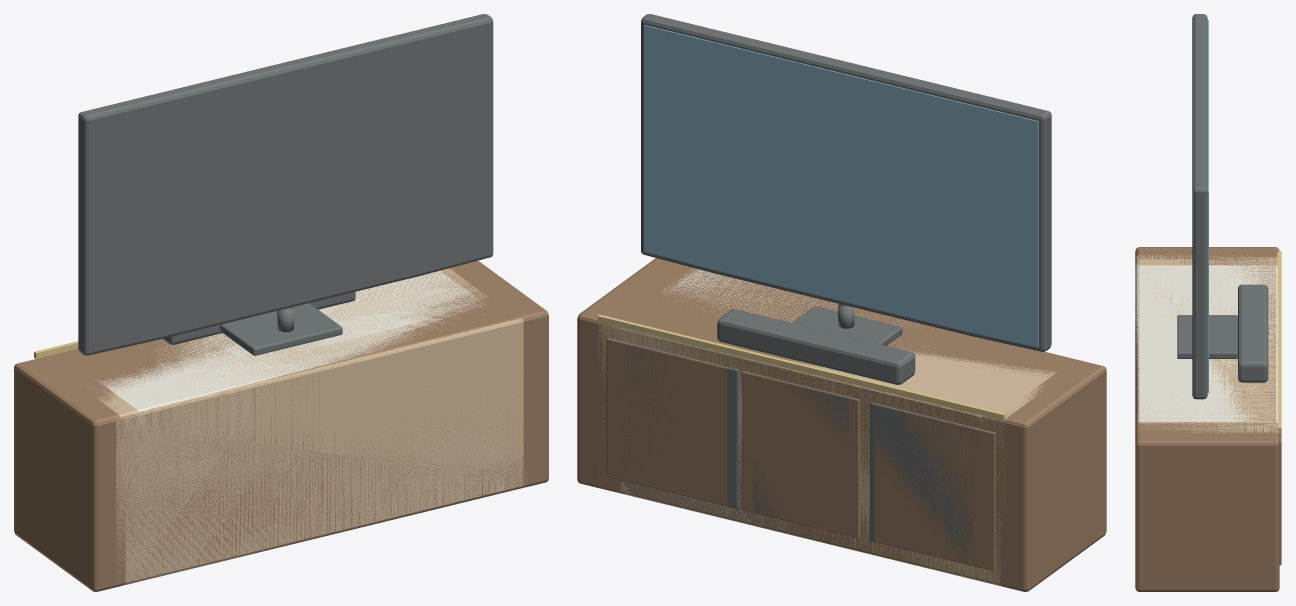
Rendered from Gear05.fbx.
3 renders of one model, left to right at view 1: azimuth 30°, elevation 25°; view 2: azimuth 150°, elevation 25°; view 3: azimuth 270°, elevation 25°, orthographic. The views are drawn at different scales.
Visible parts, largest first — view 1: Gear05_V9_Charcoal, Gear05_V10_Charcoal, Gear05_V5_Oak, Gear05_V4_Oak, Gear05_V10_Walnut, Gear05_V7_Walnut, Gear05_V2_Charcoal, Gear05_V7_Charcoal, Gear05_V2_Ivory, Gear05_V1_Charcoal, Gear05_V8_Charcoal, Gear05_V9_Walnut (+7 smaller); view 2: Gear05_V10_ScreenUI, Gear05_V10_Walnut, Gear05_V8_Walnut, Gear05_V6_ScreenUI, Gear05_V7_Walnut, Gear05_V7_ScreenUI, Gear05_V10_Charcoal, Gear05_V8_ScreenUI, Gear05_V1_ScreenUI, Gear05_V9_Walnut, Gear05_V4_ScreenUI, Gear05_V5_Charcoal (+15 smaller); view 3: Gear05_V10_Walnut, Gear05_V1_Ivory, Gear05_V10_Charcoal, Gear05_V3_Oak, Gear05_V7_Walnut, Gear05_V6_Charcoal, Gear05_V6_Oak, Gear05_V4_Oak, Gear05_V1_Charcoal, Gear05_V5_Oak, Gear05_V9_Walnut, Gear05_V10_ScreenUI (+4 smaller).
Boxes of the visible parts, x1,y1,x2,y2 form: Gear05_V9_Charcoal: (95,33,483,353); Gear05_V10_Charcoal: (78,14,493,355); Gear05_V5_Oak: (91,268,523,585); Gear05_V4_Oak: (89,268,518,584); Gear05_V10_Walnut: (14,260,548,591); Gear05_V7_Walnut: (33,268,532,587); Gear05_V2_Charcoal: (148,129,431,341); Gear05_V7_Charcoal: (110,59,468,350); Gear05_V2_Ivory: (133,270,509,554); Gear05_V1_Charcoal: (155,119,424,355); Gear05_V8_Charcoal: (103,79,476,351); Gear05_V9_Walnut: (22,263,542,586); Gear05_V10_ScreenUI: (644,25,1038,347); Gear05_V10_Walnut: (577,258,1106,591); Gear05_V8_Walnut: (588,265,1062,589); Gear05_V6_ScreenUI: (673,97,1008,340); Gear05_V7_Walnut: (593,271,1039,582); Gear05_V7_ScreenUI: (666,57,1016,342); Gear05_V10_Charcoal: (641,14,1051,384); Gear05_V8_ScreenUI: (658,50,1023,344); Gear05_V1_ScreenUI: (710,121,971,332); Gear05_V9_Walnut: (584,272,1037,590); Gear05_V4_ScreenUI: (688,98,994,337); Gear05_V5_Charcoal: (627,261,1004,565); Gear05_V10_Walnut: (1135,247,1281,591); Gear05_V1_Ivory: (1137,265,1277,422); Gear05_V10_Charcoal: (1177,14,1268,399); Gear05_V3_Oak: (1138,261,1277,426); Gear05_V7_Walnut: (1135,253,1281,436); Gear05_V6_Charcoal: (1238,284,1280,434); Gear05_V6_Oak: (1135,255,1277,434); Gear05_V4_Oak: (1138,259,1276,428); Gear05_V1_Charcoal: (1177,315,1237,358); Gear05_V5_Oak: (1135,257,1277,430); Gear05_V9_Walnut: (1135,249,1281,441); Gear05_V10_ScreenUI: (1207,20,1208,393).
Size of the model in its own units: 123 by 115 by 38.5.
